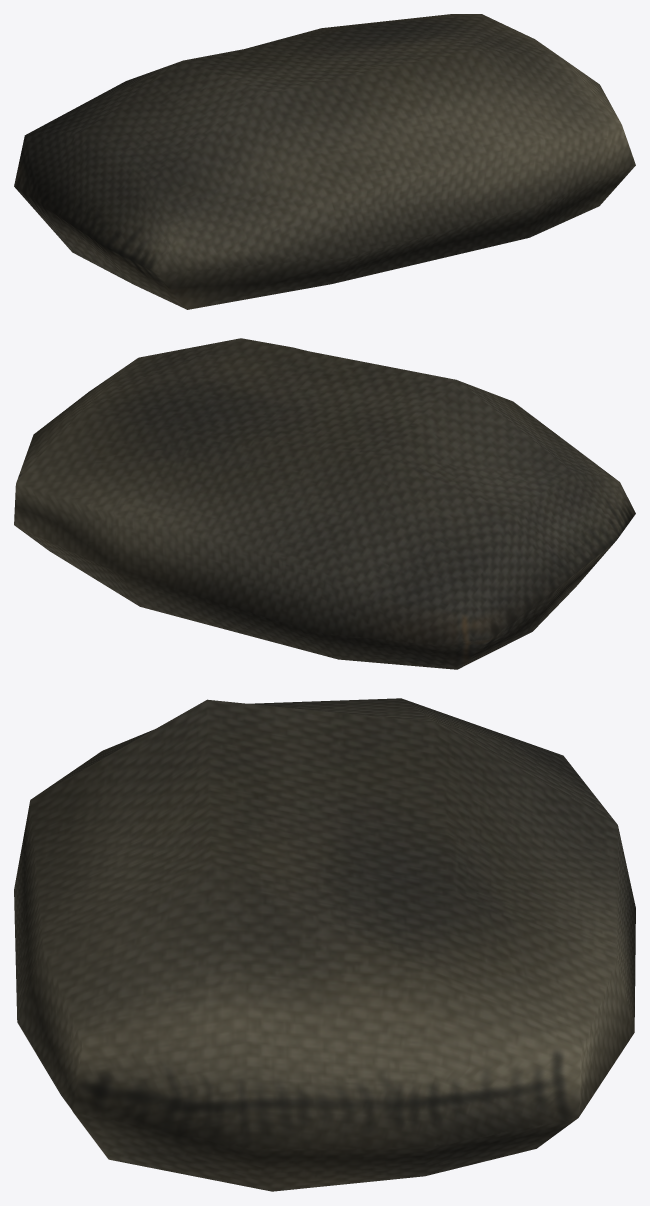
The model's file is SM_Sand_bag_2_b.FBX.
3 renders of one model, top to bottom at view 1: azimuth 30°, elevation 25°; view 2: azimuth 150°, elevation 25°; view 3: azimuth 270°, elevation 25°, orthographic. The views are drawn at different scales.
Visible parts, largest first — view 1: Sand_bag_2_b; view 2: Sand_bag_2_b; view 3: Sand_bag_2_b.
Part boxes in pixels (x1,y1,x2,y2): Sand_bag_2_b: [14, 14, 635, 309]; Sand_bag_2_b: [14, 338, 635, 669]; Sand_bag_2_b: [14, 698, 635, 1191].
Size of the model in its own units: 58.15 by 40.83 by 23.69.
